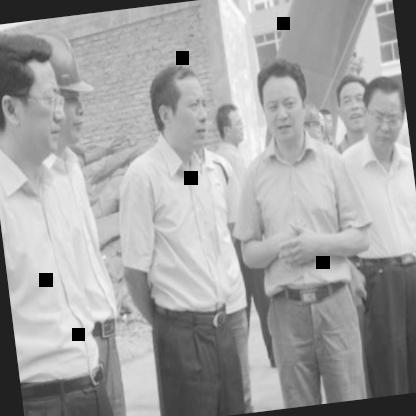head: (0, 22, 72, 171), (142, 57, 212, 156), (251, 53, 315, 152), (355, 72, 410, 150), (332, 72, 374, 134), (209, 98, 246, 148)
helmet: (35, 22, 102, 160)
